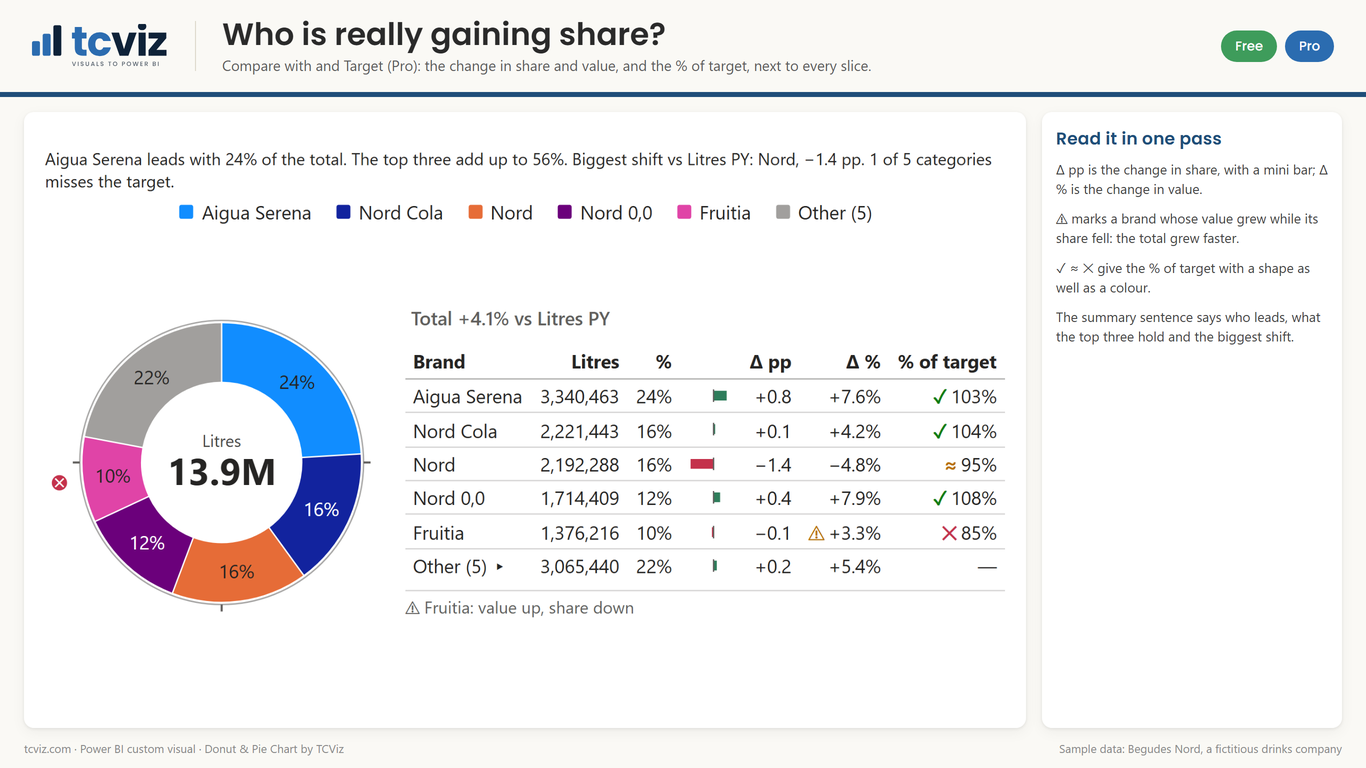

Layout of this report page (visuals, bound fields, positions):
{"tool":"powerbi","page":{"name":"Donut","canvas":[1280,720],"ordinal":0},"visuals":[{"type":"image","box":[13.4,10.7,133.4,72.5],"z":0},{"type":"donutChartTCViz5449856DE5A343AFB84B575BC5FDB5E8","title":"Volumen","fields":{"values":["Sum(Ventas.Litros)"],"category":["Ventas.Familia"],"target":["Sum(Ventas.Plan litros)"],"facet":["Ventas.Canal"]},"box":[324.5,101.8,944.4,607.7],"z":1000},{"type":"cardVisual","fields":{"Data":["Sum(Ventas.Litros)"]},"box":[13.1,101.8,297.3,606.7],"z":1001}]}

Visuals, with their boxes in screenshot pixels (x1, y1, x2, y2), scaled from the page's 1280x720 canvas onto the 1366x768 screenshot:
image: 14, 11, 157, 89
"Volumen" donutChartTCViz5449856DE5A343AFB84B575BC5FDB5E8: 346, 109, 1354, 757
cardVisual - Sum(Ventas.Litros): 14, 109, 331, 756
